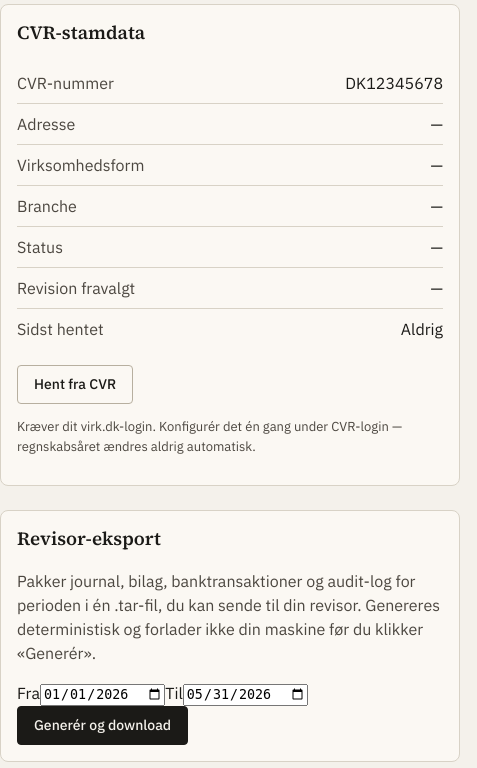
Test: ManageCompanyView › syncs CVR stamdata and reports the updated fields
(page scrolled)
Click the button "Hent fra CVR" at (75, 385), box [17,365,133,404]
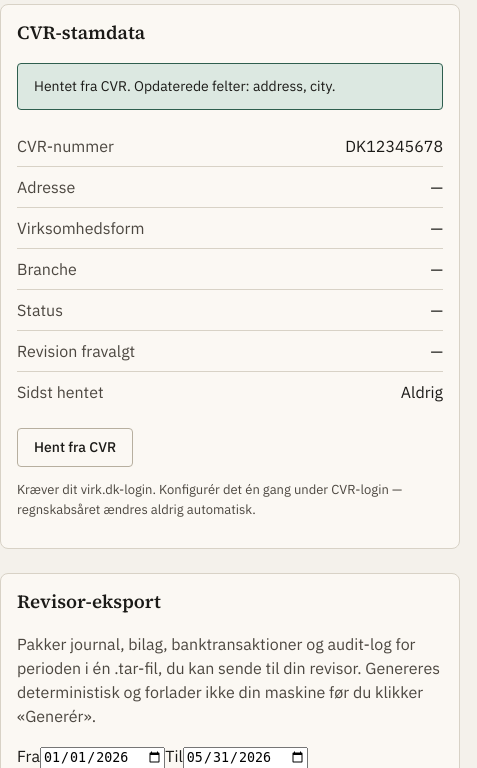
Result: the text "Hentet fra CVR. Opdaterede felter: address, city." is shown at [17,63,443,110]
